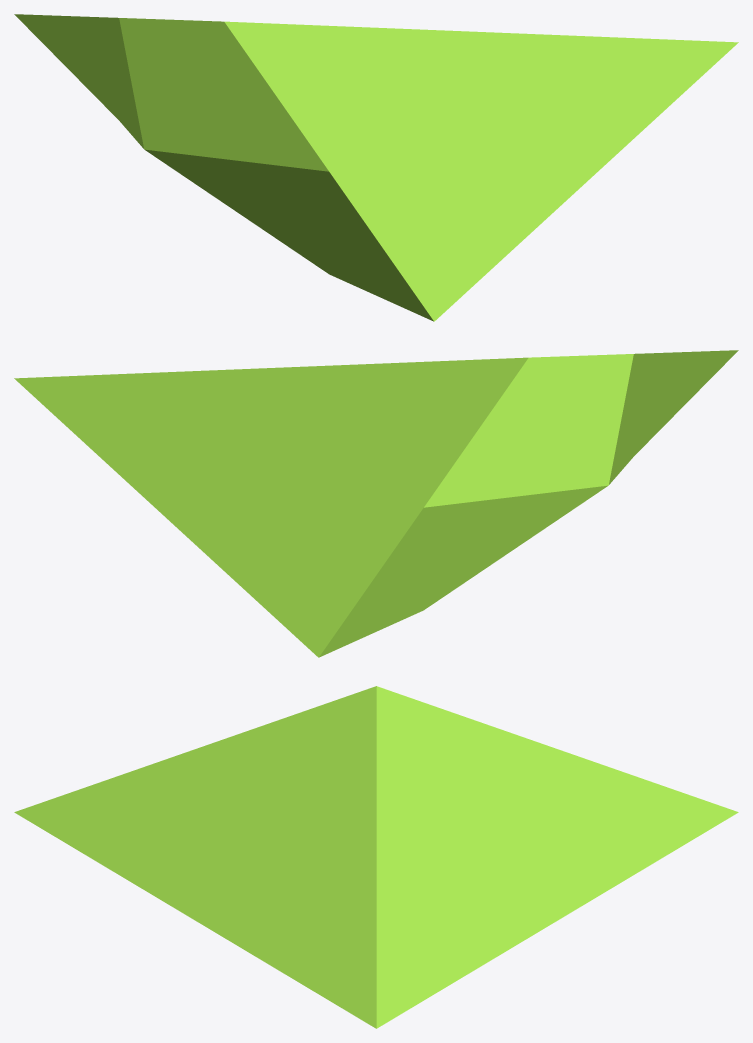
The model's file is Space Fighter Homie.glb.
3 views of the same model, one above another, from view 1: azimuth 30°, elevation 25°; view 2: azimuth 150°, elevation 25°; view 3: azimuth 270°, elevation 25° (orthographic). The views are drawn at different scales.
Parts seen in each view (by area): view 1: Friendly Space Fighter; view 2: Friendly Space Fighter; view 3: Friendly Space Fighter.
Part boxes in pixels (x1,y1,x2,y2): Friendly Space Fighter: [14, 14, 738, 321]; Friendly Space Fighter: [14, 350, 738, 657]; Friendly Space Fighter: [14, 686, 738, 1028].
Size of the model in its own units: 0.231 by 0.0763 by 0.2828.
